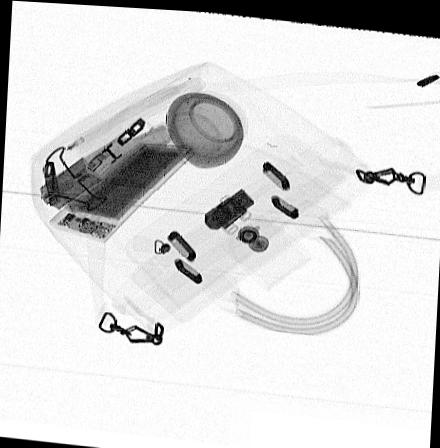Powerbank: (49, 139, 197, 242)
